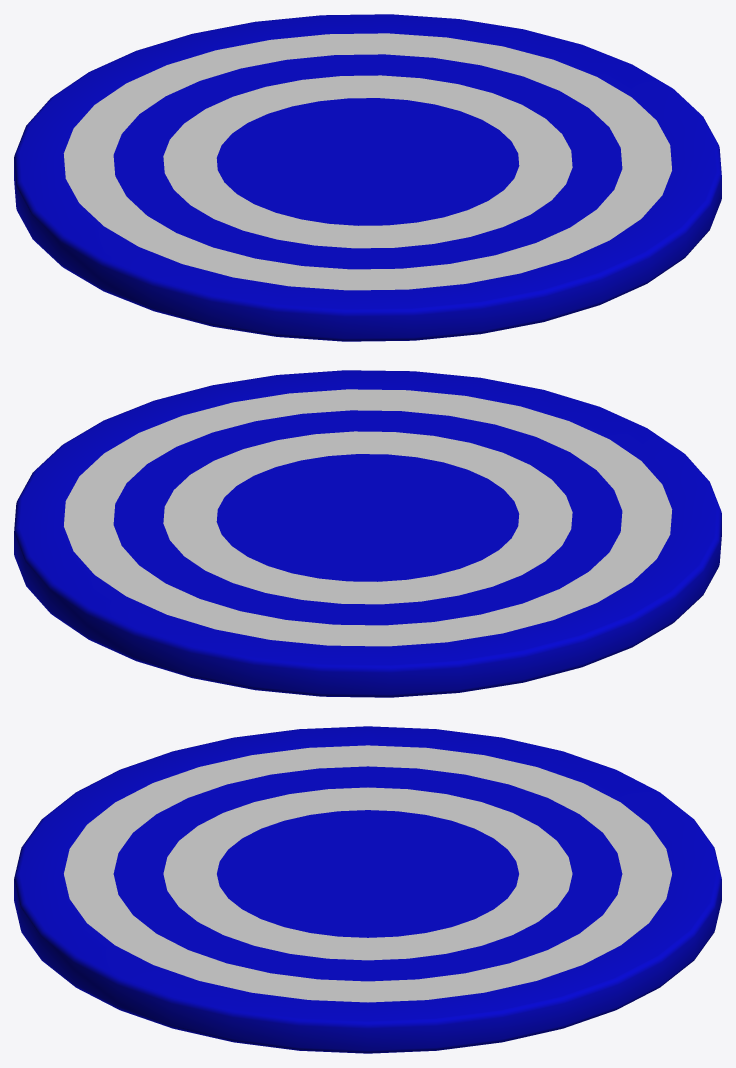
Rendered from Target.obj.
The picture shows the model from 3 angles, top to bottom: view 1: azimuth 30°, elevation 25°; view 2: azimuth 150°, elevation 25°; view 3: azimuth 270°, elevation 25°; orthographic projection.
Parts seen in each view (by area): view 1: Target_Cylinder; view 2: Target_Cylinder; view 3: Target_Cylinder.
Boxes of the visible parts, x1,y1,x2,y2 form: Target_Cylinder: (14,14,721,341); Target_Cylinder: (14,370,721,697); Target_Cylinder: (14,726,721,1053).
Bounding box in the file's own units: 2 × 0.1 × 2.
